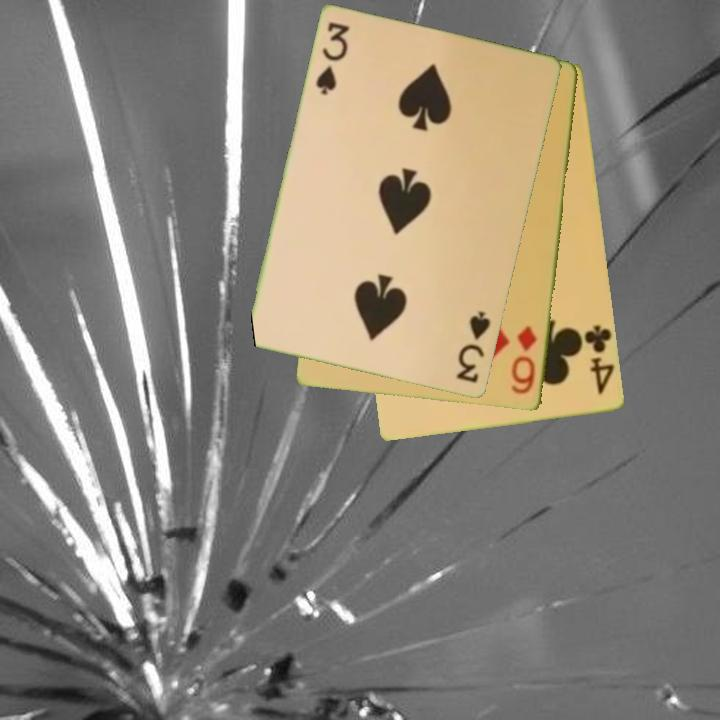3s: (312, 19, 353, 99), (453, 308, 494, 387)
4c: (578, 322, 618, 398)
6d: (508, 323, 541, 398)
